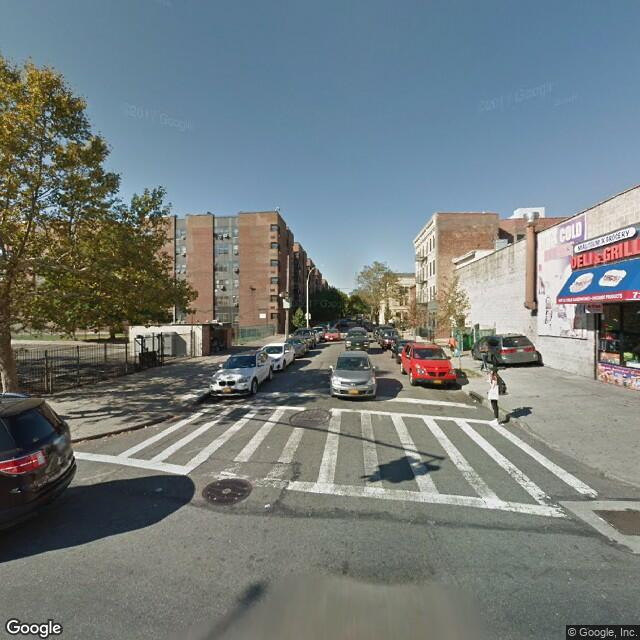litter: (136, 421, 154, 432)
